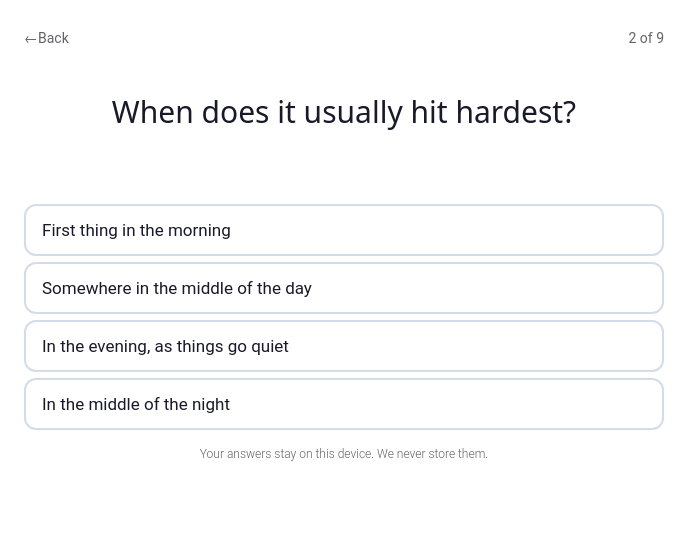
Test: QuizIsland Q1 prefill from a blog teaser tile › keeps Q1's pre-filled answer selected on Back
Click the button "← Back" at (46, 38), box [16,16,77,60]
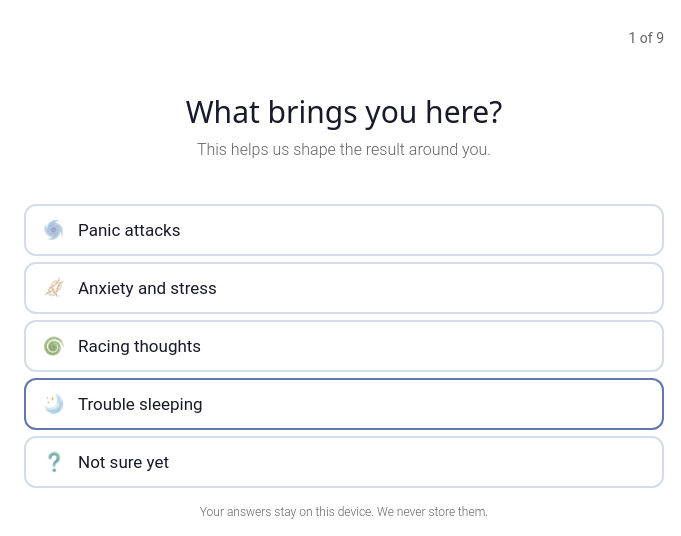
Expected: the heading "What brings you here?" is shown, [186,91,502,132]
